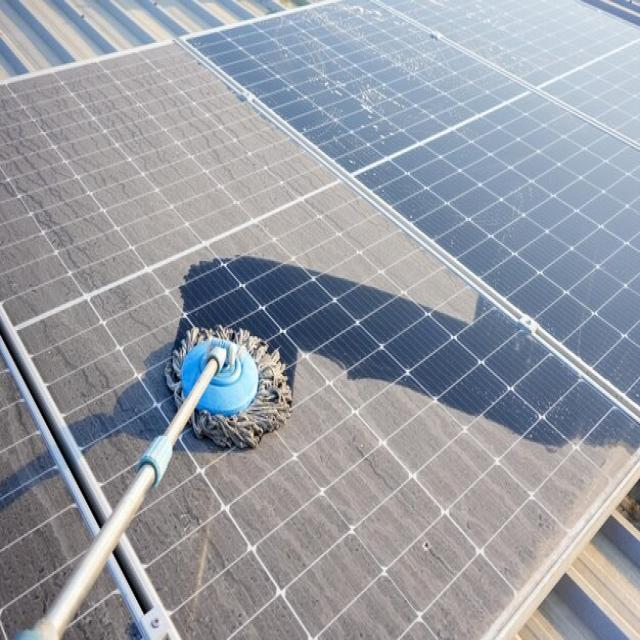dust-solar-panel: (0, 42, 640, 640), (180, 0, 535, 181)
